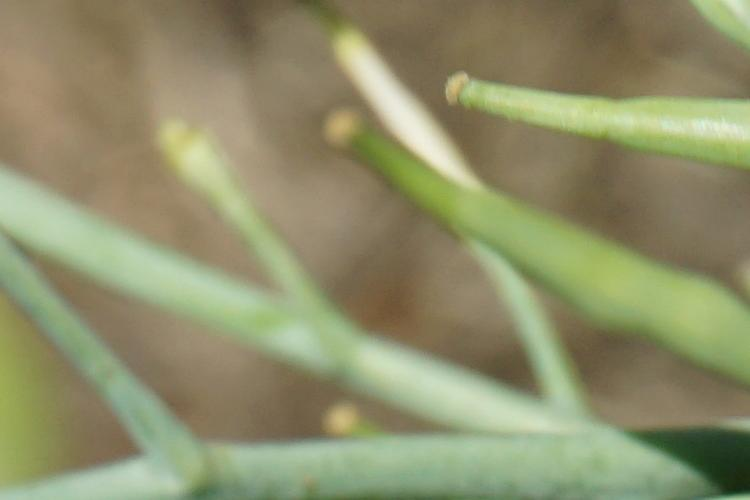pod: (332, 141, 745, 374), (418, 64, 750, 169)
